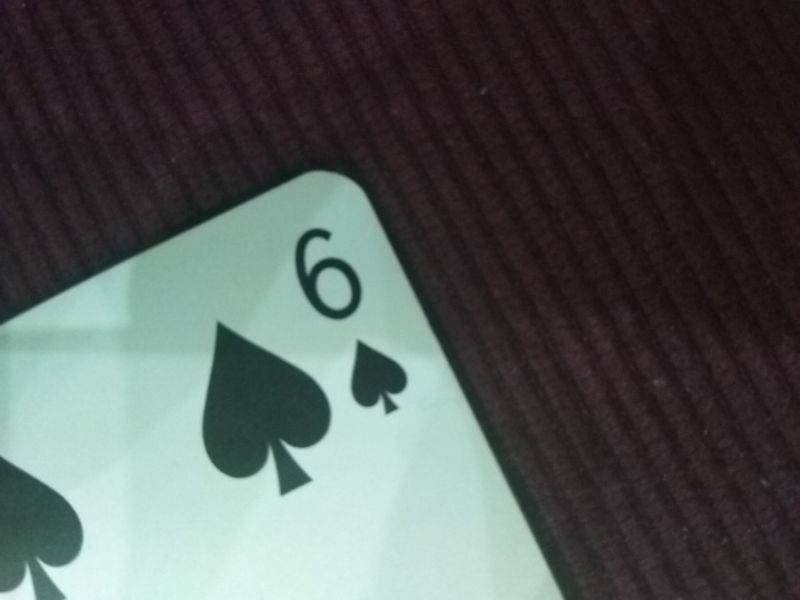6s: (286, 217, 410, 421)
